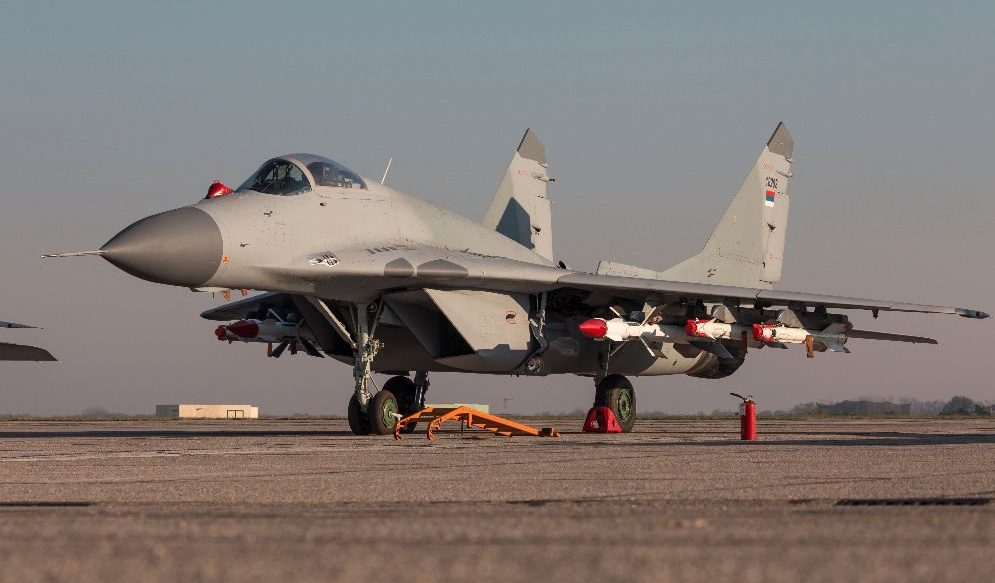Mig-29: (65, 76, 934, 459)
